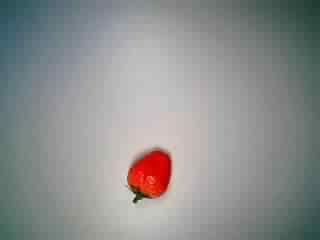strawberry: (115, 145, 177, 209)
